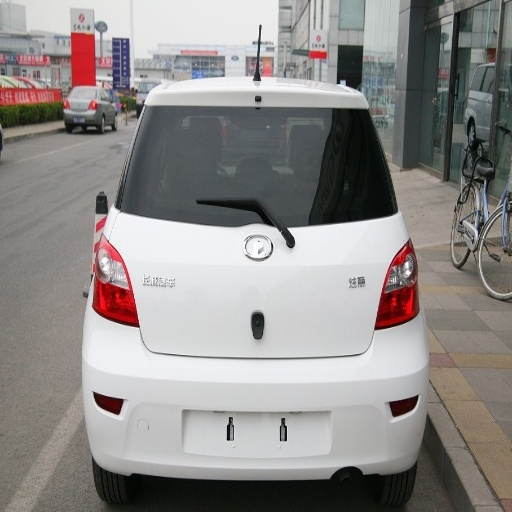back_bumper: (84, 313, 430, 478)
tailgate: (104, 225, 208, 352), (325, 260, 387, 353)
trunk: (113, 215, 405, 354)
